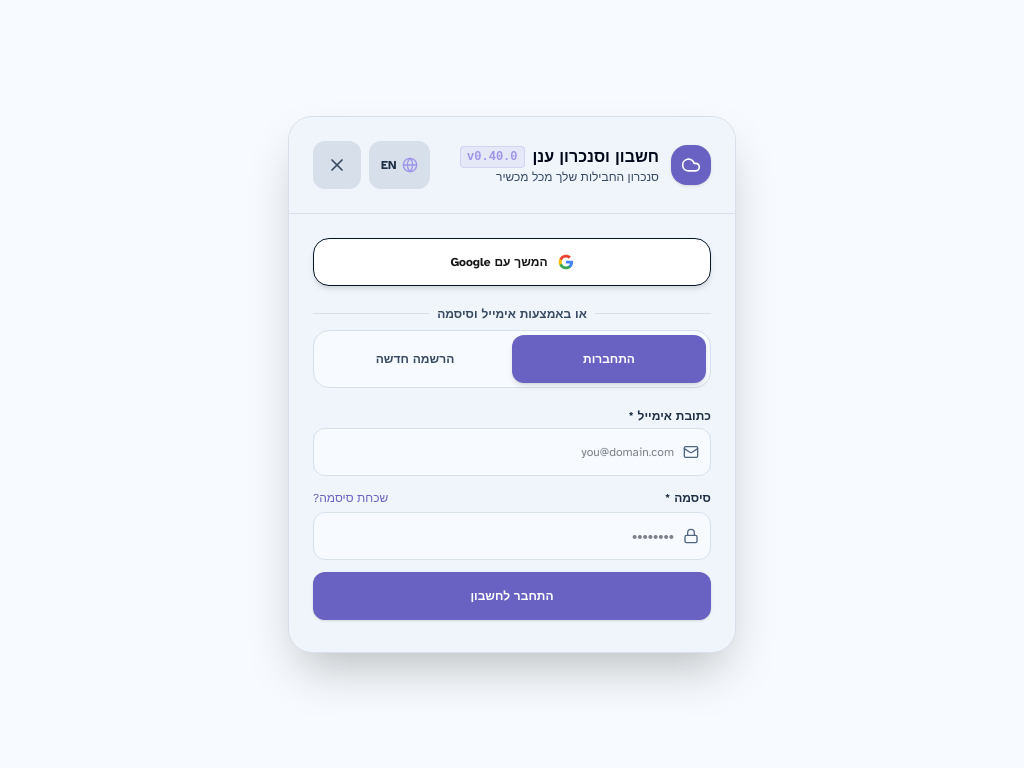
Test: AuthModal (rendered) › renders the language switcher button and toggles language
What coordinates should you click on to do the following:
click the button with aria-label "switch to english"
I would click on:
 (400, 164)
Its box is [369, 140, 430, 188].
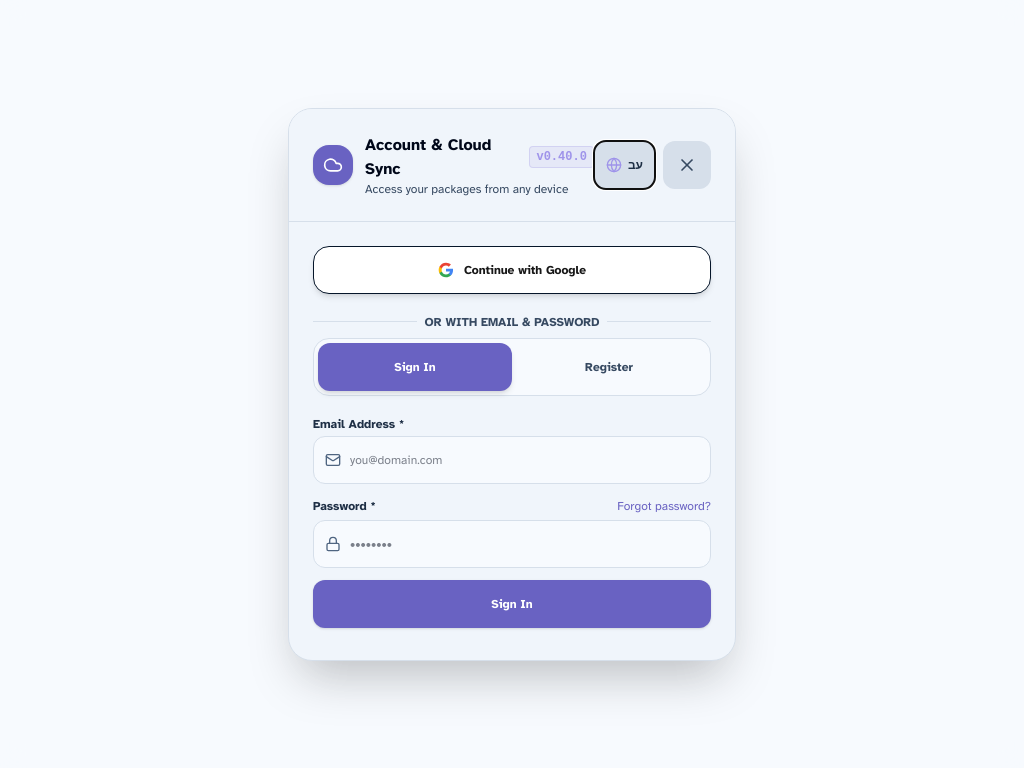
Check: the button with aria-label "החלף לעברית" is shown, box [594, 140, 655, 188]
Check: the text "עב" is shown, box [628, 156, 643, 172]
